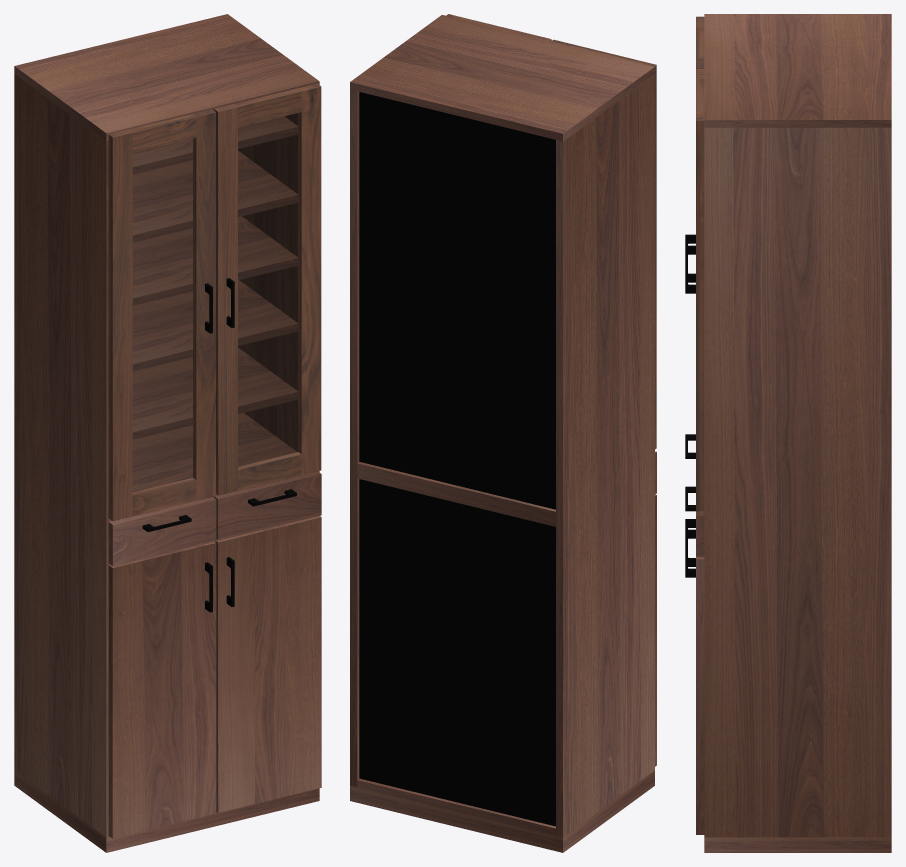
File: mueble1.glb
3 views of the same model, side by side, from view 1: azimuth 30°, elevation 25°; view 2: azimuth 150°, elevation 25°; view 3: azimuth 270°, elevation 25° (orthographic).
Visible parts, largest first — view 1: Object_50_WN_tsukiita_0, Object_51_WN_tsukiita_0, Object_8_WN_tsukiita_0, Object_6_WN_tsukiita_0, Object_40_WN_tsukiita_0, Object_11_Glass_0, Object_14_Glass_0, Object_16_WN_tenban_0, Object_13_WN_tenban_0, Object_45_WN_tsukiita_0, Object_15_WN_tenban_0, Object_12_WN_tenban_0 (+13 smaller); view 2: Object_37_Paint_0, Object_36_Paint_0, Object_50_WN_tsukiita_0, Object_51_WN_tsukiita_0, Object_40_WN_tsukiita_0, Object_47_WN_tsukiita_0, Object_45_WN_tsukiita_0, Object_44_WN_tsukiita_0, Object_35_WN_tsukiita_0, Object_46_WN_tsukiita_0, Object_43_WN_tsukiita_0, Object_16_WN_tenban_0; view 3: Object_45_WN_tsukiita_0, Object_44_WN_tsukiita_0, Object_40_WN_tsukiita_0, Object_13_WN_tenban_0, Object_47_WN_tsukiita_0, Object_6_WN_tsukiita_0, Object_20_WN_tsukiita_0.
Part boxes in pixels (<box>): Object_50_WN_tsukiita_0: <box>14,74,110,520</box>; Object_51_WN_tsukiita_0: <box>14,453,111,837</box>; Object_8_WN_tsukiita_0: <box>108,541,216,838</box>; Object_6_WN_tsukiita_0: <box>215,516,321,812</box>; Object_40_WN_tsukiita_0: <box>14,14,319,140</box>; Object_11_Glass_0: <box>238,113,297,466</box>; Object_14_Glass_0: <box>133,139,192,491</box>; Object_16_WN_tenban_0: <box>108,129,132,520</box>; Object_13_WN_tenban_0: <box>298,83,321,474</box>; Object_45_WN_tsukiita_0: <box>238,113,298,451</box>; Object_15_WN_tenban_0: <box>193,109,215,500</box>; Object_12_WN_tenban_0: <box>214,104,237,495</box>; Object_37_Paint_0: <box>359,92,555,509</box>; Object_36_Paint_0: <box>359,479,555,826</box>; Object_50_WN_tsukiita_0: <box>556,74,654,520</box>; Object_51_WN_tsukiita_0: <box>556,454,654,837</box>; Object_40_WN_tsukiita_0: <box>350,15,654,141</box>; Object_47_WN_tsukiita_0: <box>350,771,654,852</box>; Object_45_WN_tsukiita_0: <box>350,89,359,470</box>; Object_44_WN_tsukiita_0: <box>350,469,359,787</box>; Object_35_WN_tsukiita_0: <box>357,462,555,519</box>; Object_46_WN_tsukiita_0: <box>357,778,555,835</box>; Object_43_WN_tsukiita_0: <box>357,471,555,526</box>; Object_16_WN_tenban_0: <box>634,60,656,449</box>; Object_45_WN_tsukiita_0: <box>704,127,891,514</box>; Object_44_WN_tsukiita_0: <box>704,514,891,837</box>; Object_40_WN_tsukiita_0: <box>704,14,891,127</box>; Object_13_WN_tenban_0: <box>696,110,704,511</box>; Object_47_WN_tsukiita_0: <box>704,837,891,852</box>; Object_6_WN_tsukiita_0: <box>696,557,704,834</box>; Object_20_WN_tsukiita_0: <box>696,511,704,557</box>.
Size of the model in its own units: 0.589 by 1.9 by 0.485.
8 materials, 5 textured.
